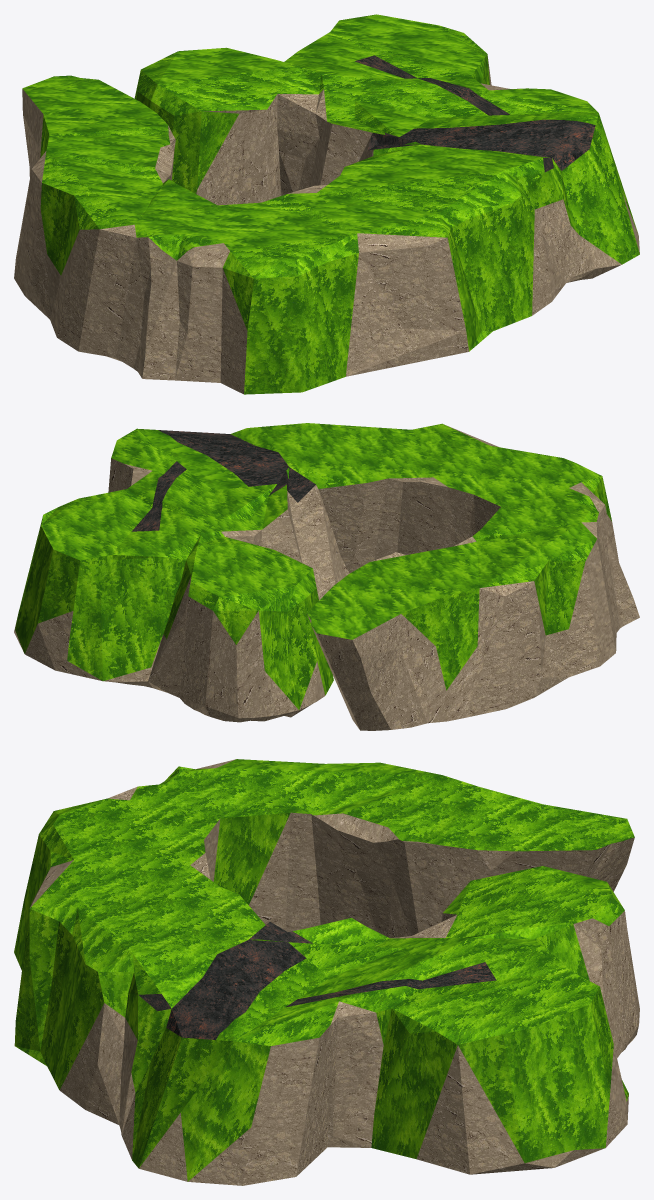
File: hub_map.glb
3 views of the same model, one above another, from view 1: azimuth 30°, elevation 25°; view 2: azimuth 150°, elevation 25°; view 3: azimuth 270°, elevation 25° (orthographic). The views are drawn at different scales.
Visible parts, largest first — view 1: Plane.008, Plane.007, Plane.010; view 2: Plane.008, Plane.007, Plane.010; view 3: Plane.008, Plane.007, Plane.010.
Part boxes in pixels (x1=…): Plane.008: x1=22, y1=14, x2=639, y2=394; Plane.007: x1=14, y1=56, x2=639, y2=394; Plane.010: x1=355, y1=55, x2=598, y2=172; Plane.008: x1=15, y1=423, x2=611, y2=709; Plane.007: x1=14, y1=424, x2=639, y2=730; Plane.010: x1=132, y1=428, x2=315, y2=531; Plane.008: x1=14, y1=759, x2=634, y2=1181; Plane.007: x1=30, y1=759, x2=639, y2=1185; Plane.010: x1=138, y1=922, x2=496, y2=1041.
Size of the model in its own units: 294 by 66.88 by 256.
Materials: 3 (3 with a texture image).
